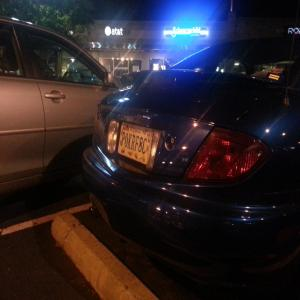Vehicle-registration-plate: (122, 126, 158, 164)
